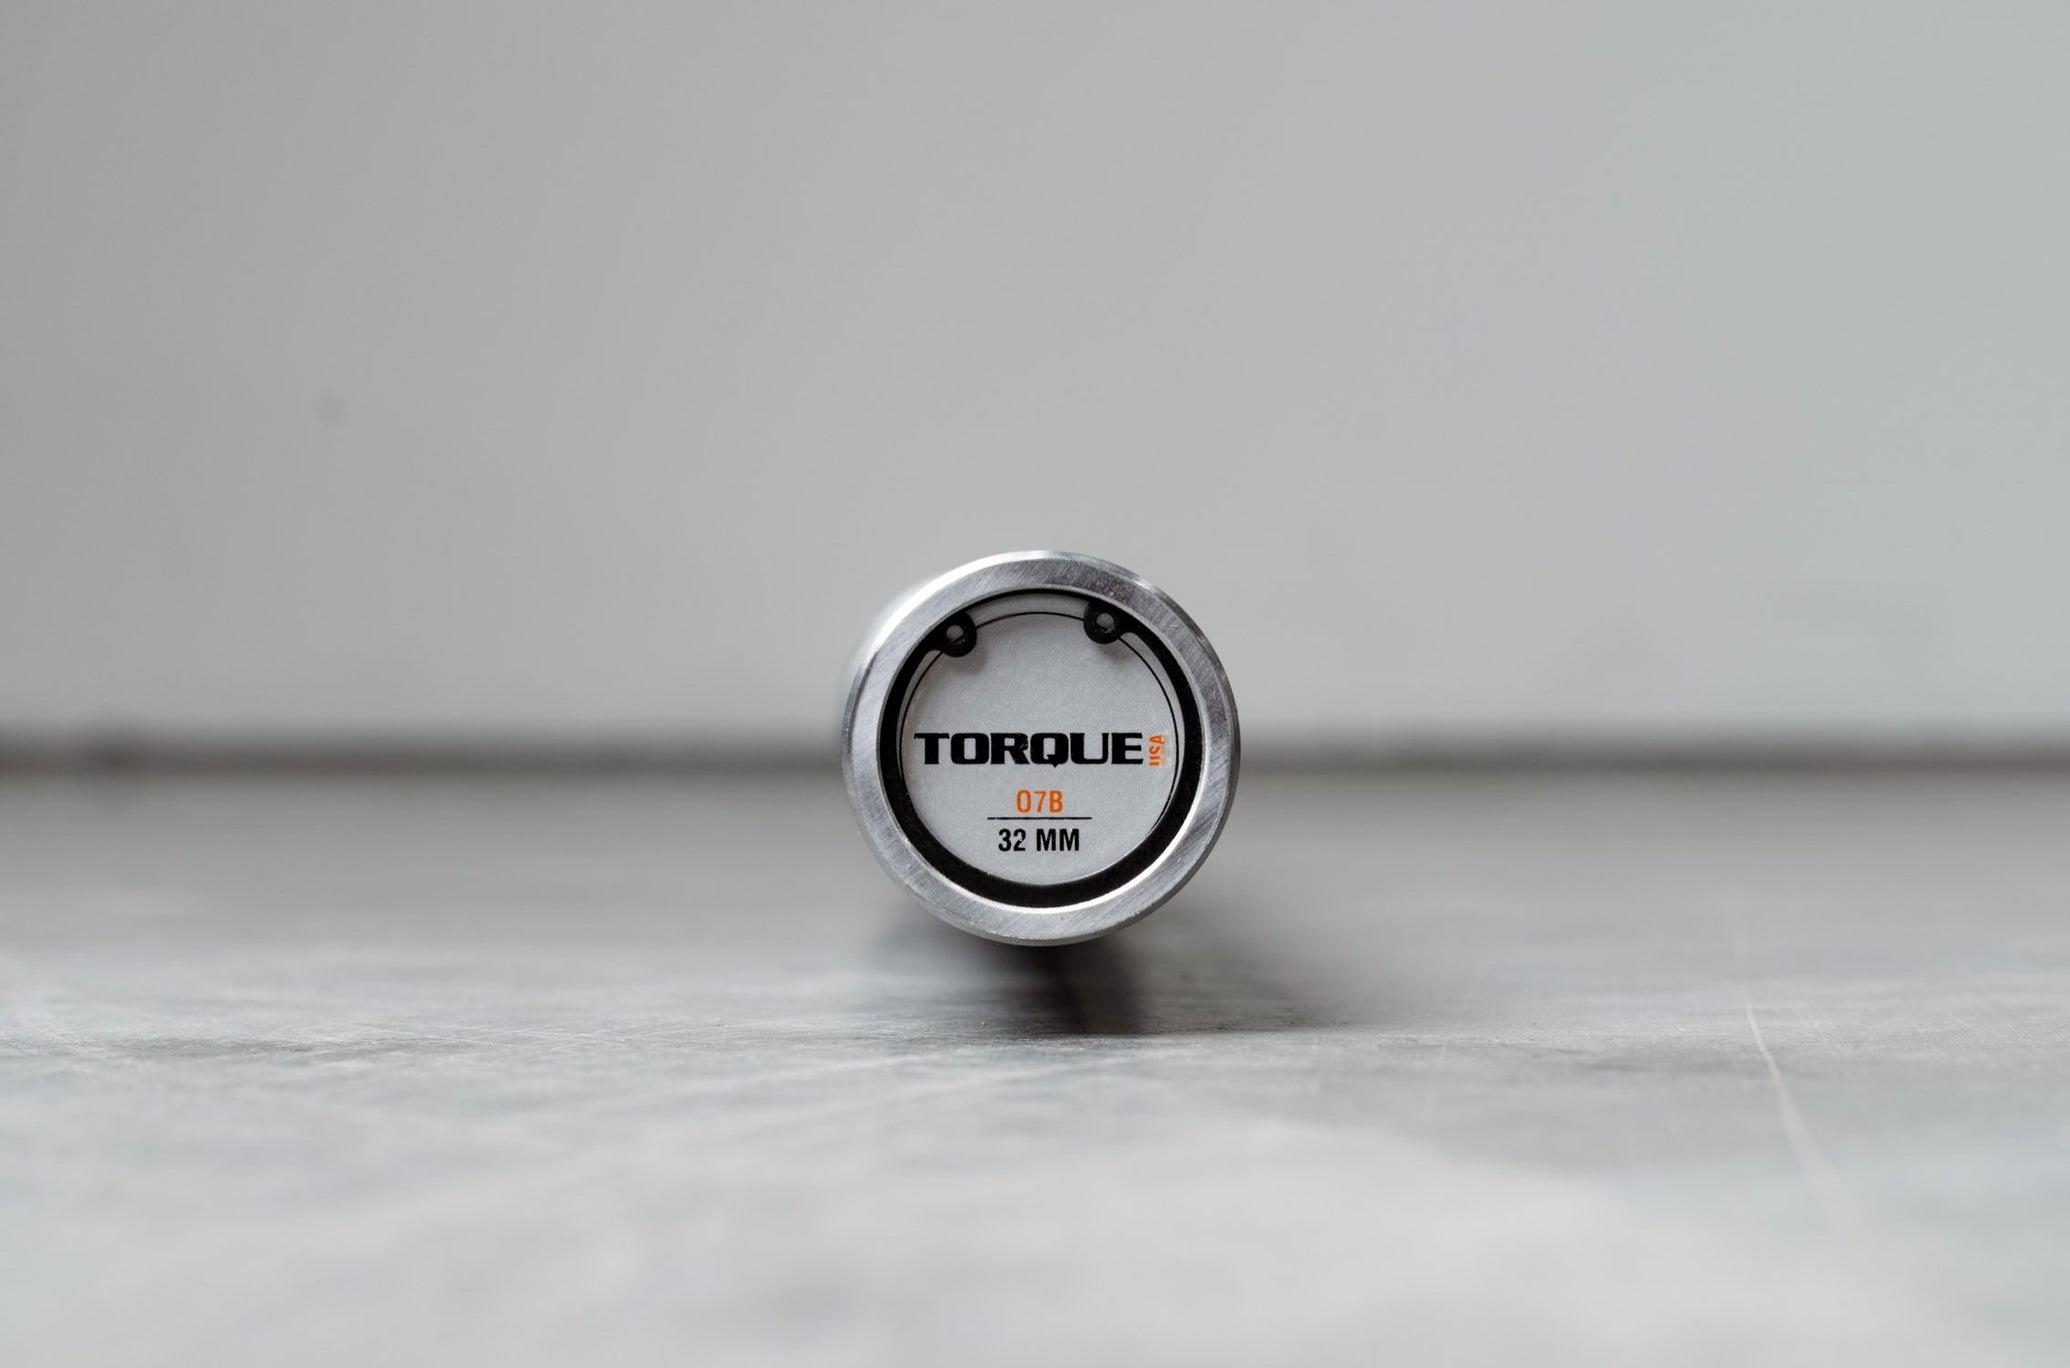Barbell: (812, 524, 1301, 971)
